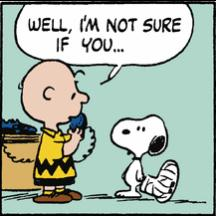charlie: (16, 56, 92, 204)
snoopy: (110, 112, 180, 204)
